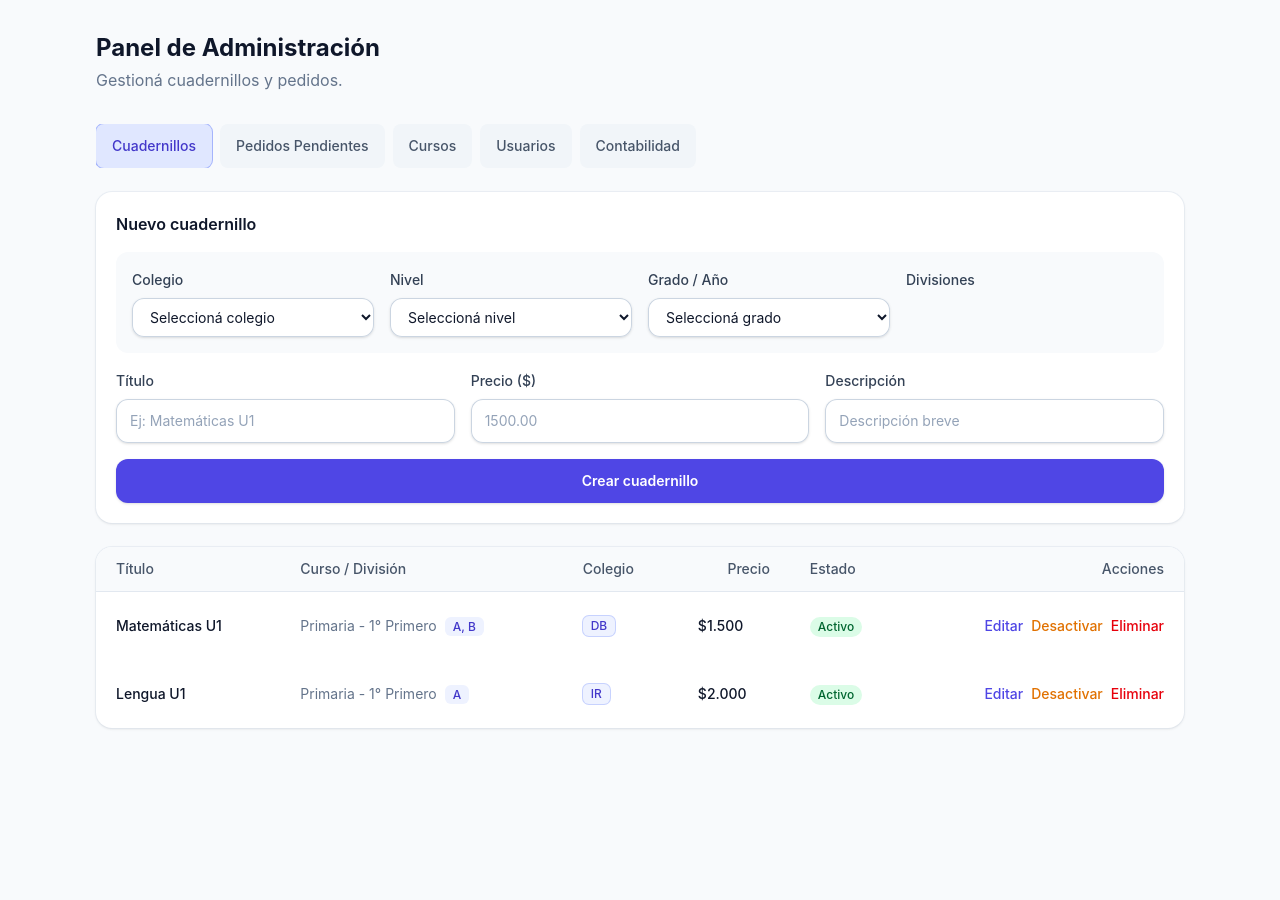
Test: Admin page › filters booklets by selected school
The image size is (1280, 900).
Expected: the text "Matemáticas U1" is shown, [116, 617, 222, 634]
Select "Don Bosco Test" in the 1st dropdown. click: (253, 318)
box: [132, 298, 374, 337]
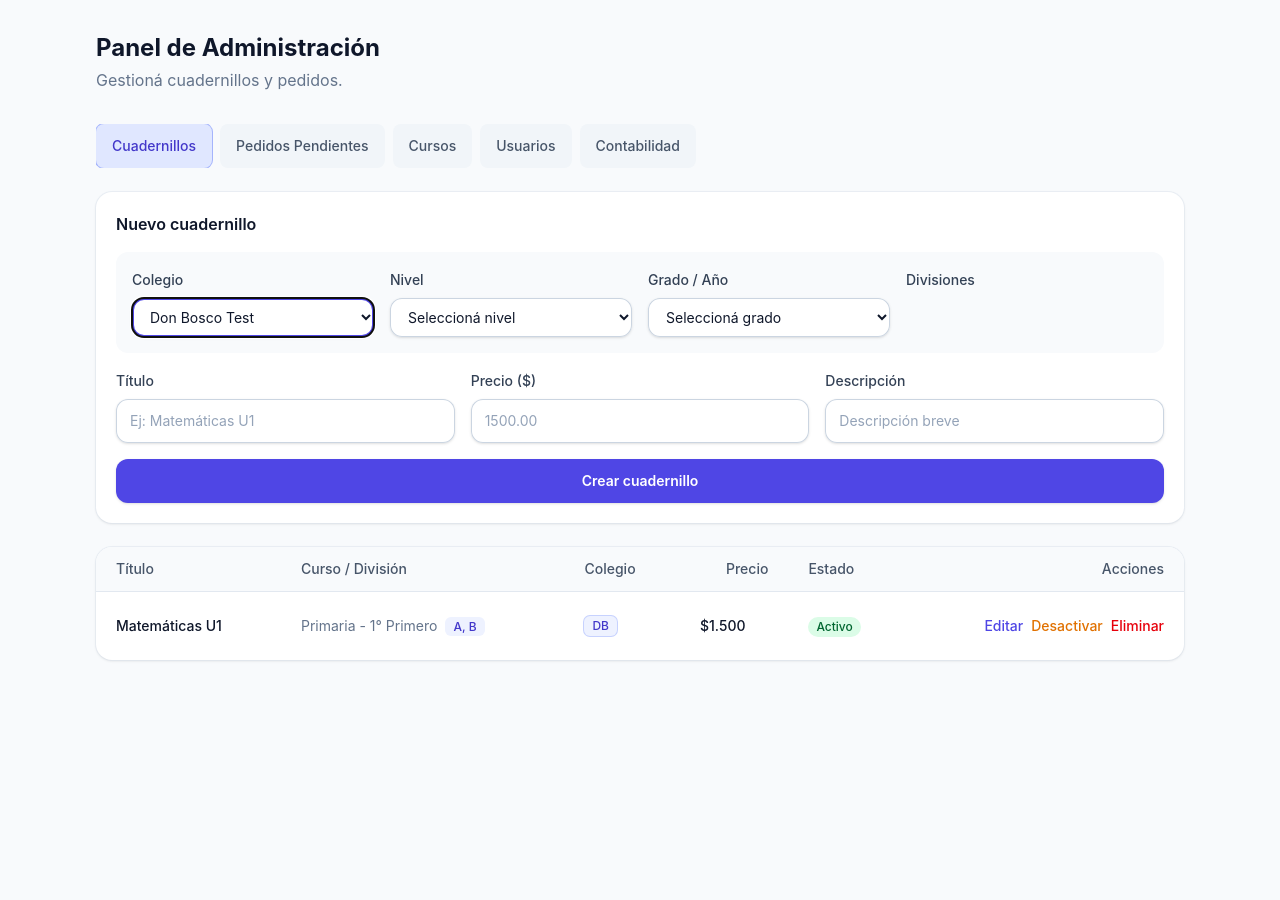
Expected: the text "Matemáticas U1" is shown, [116, 617, 222, 634]
Expected: the text "Lengua U1" is gone
